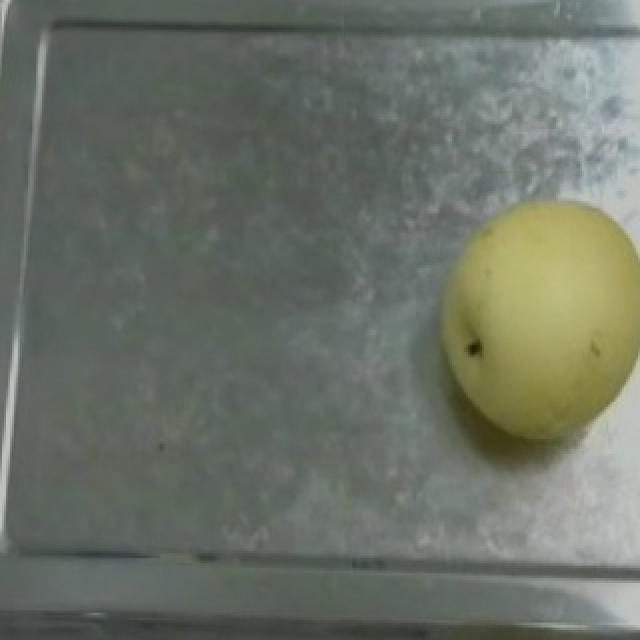Fruit: (414, 181, 640, 454)
